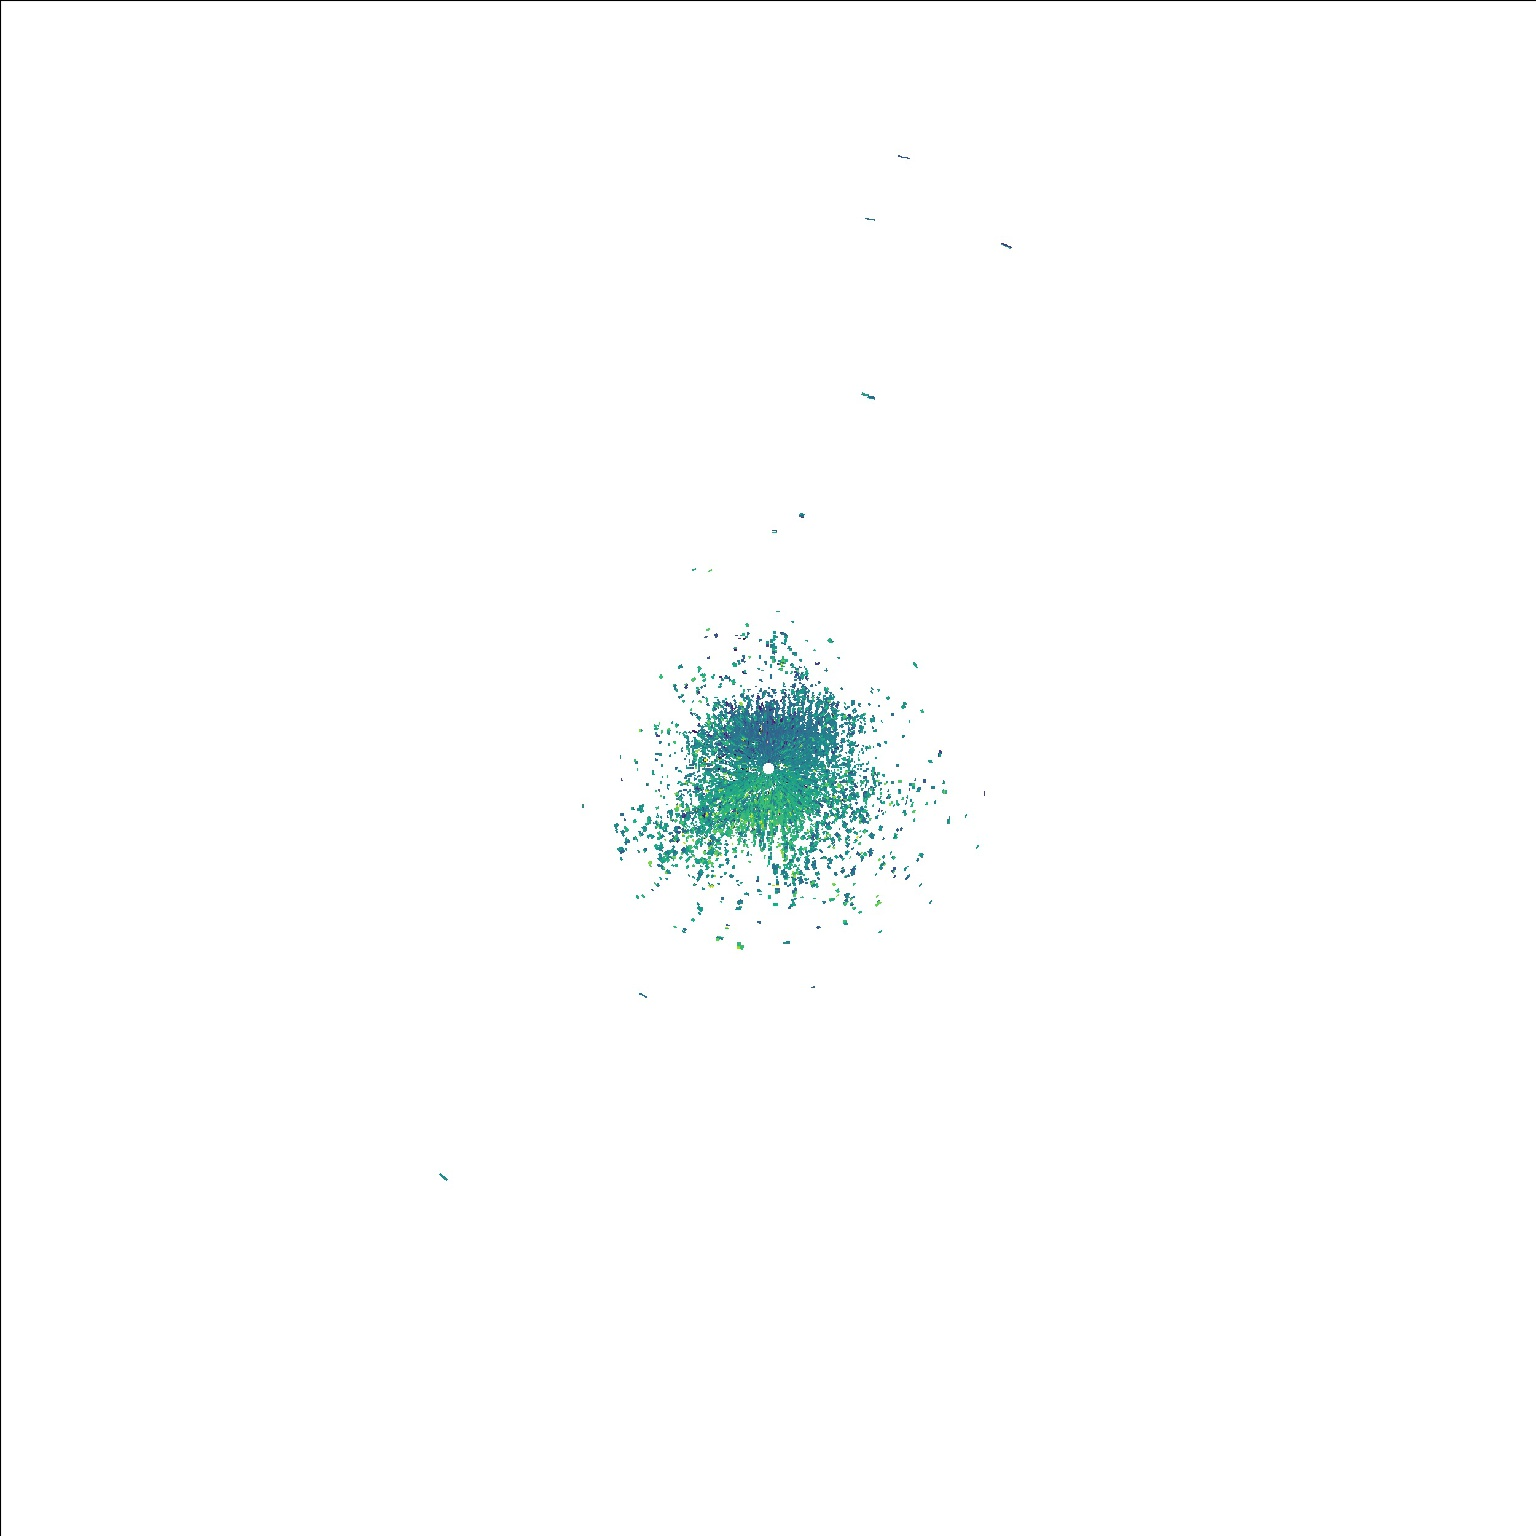fall: (857, 385, 879, 407)
